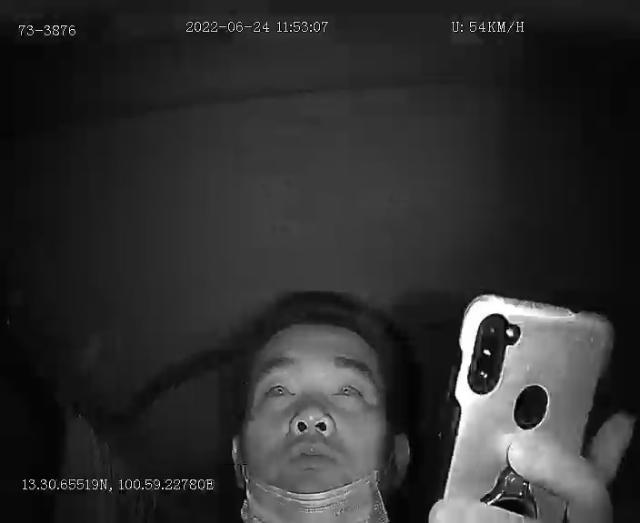PhoneUse: (438, 288, 613, 523)
SafeDriving: (325, 369, 370, 407), (257, 369, 300, 408)
